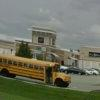Bus: (1, 52, 72, 88)
